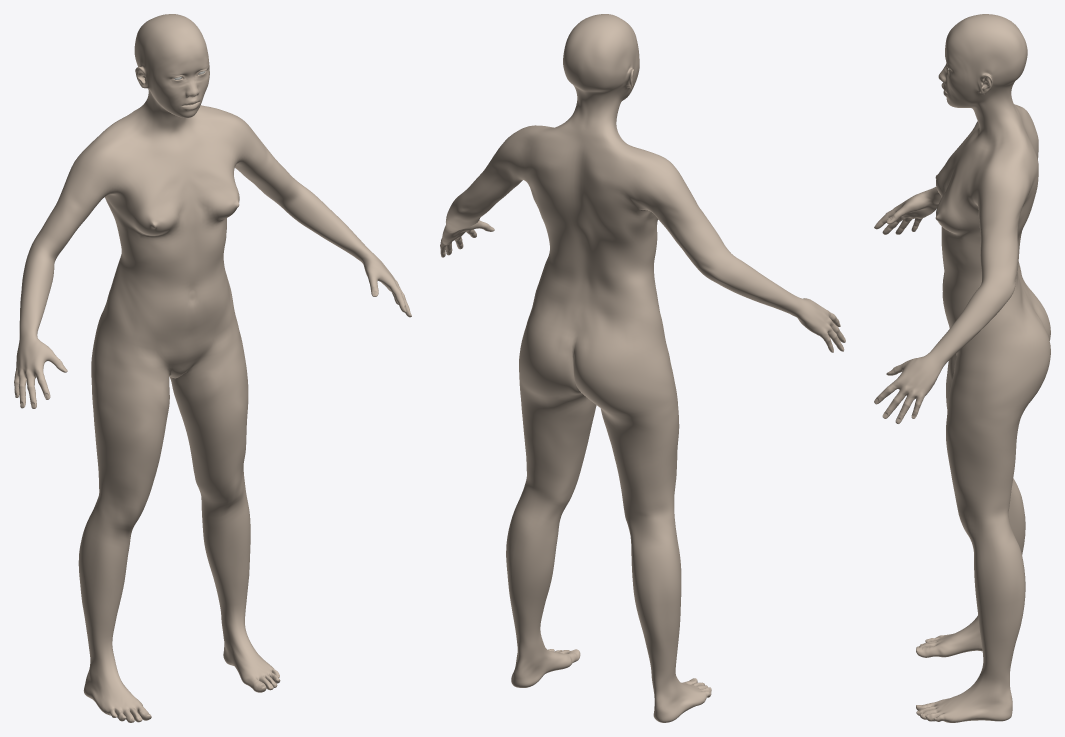
File: female-surface.glb
3 renders of one model, left to right at view 1: azimuth 30°, elevation 25°; view 2: azimuth 150°, elevation 25°; view 3: azimuth 270°, elevation 25°, orthographic. The views are drawn at different scales.
Visible parts, largest first — view 1: body; view 2: body; view 3: body.
Part boxes in pixels (x1,y1,x2,y2): body: (14, 14, 411, 722); body: (440, 14, 845, 722); body: (874, 14, 1050, 722).
Size of the model in its own units: 1.07 by 1.75 by 0.4196.
